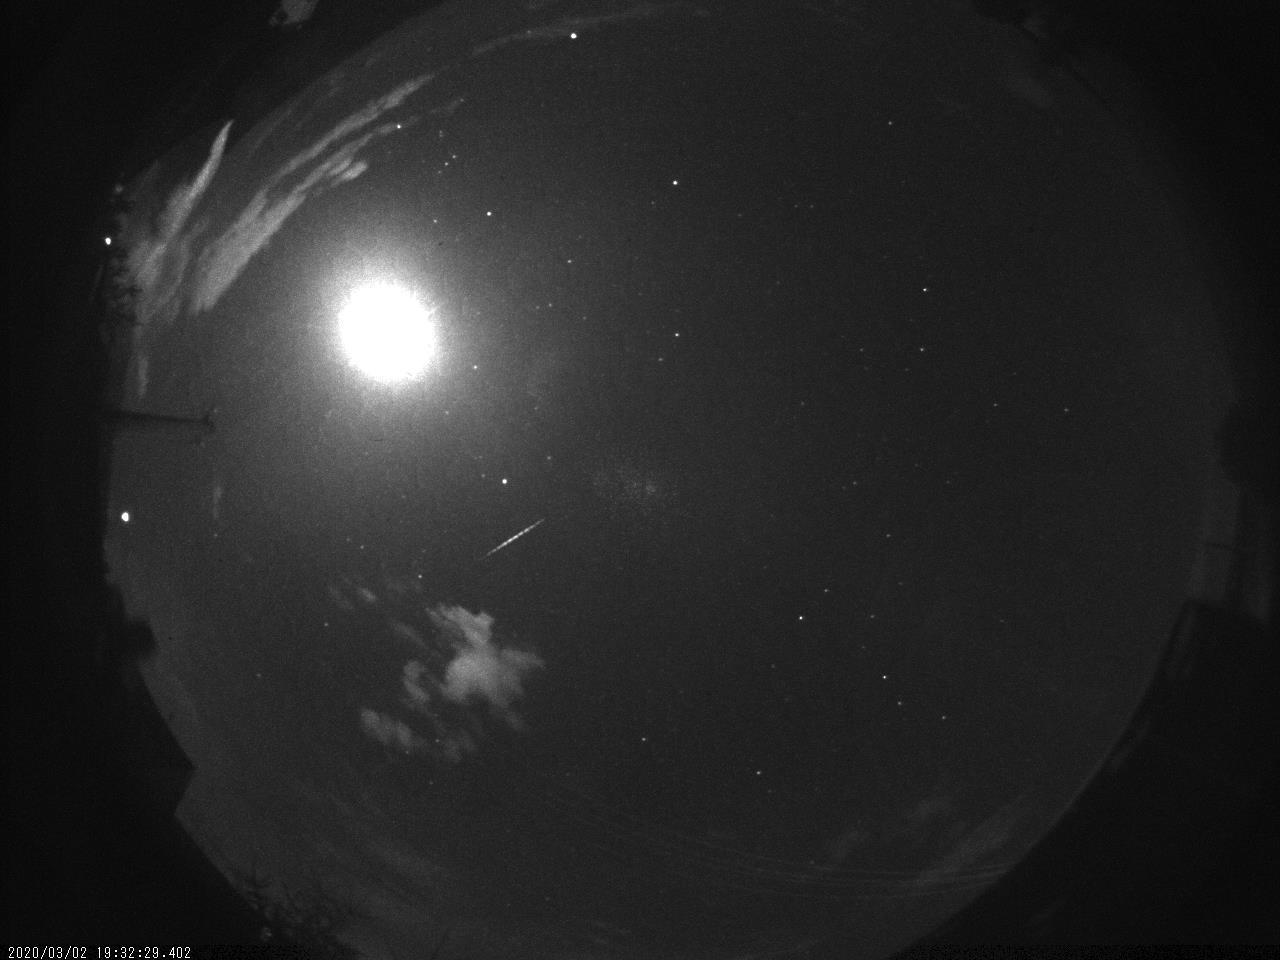Meteor: (478, 512, 552, 568)
